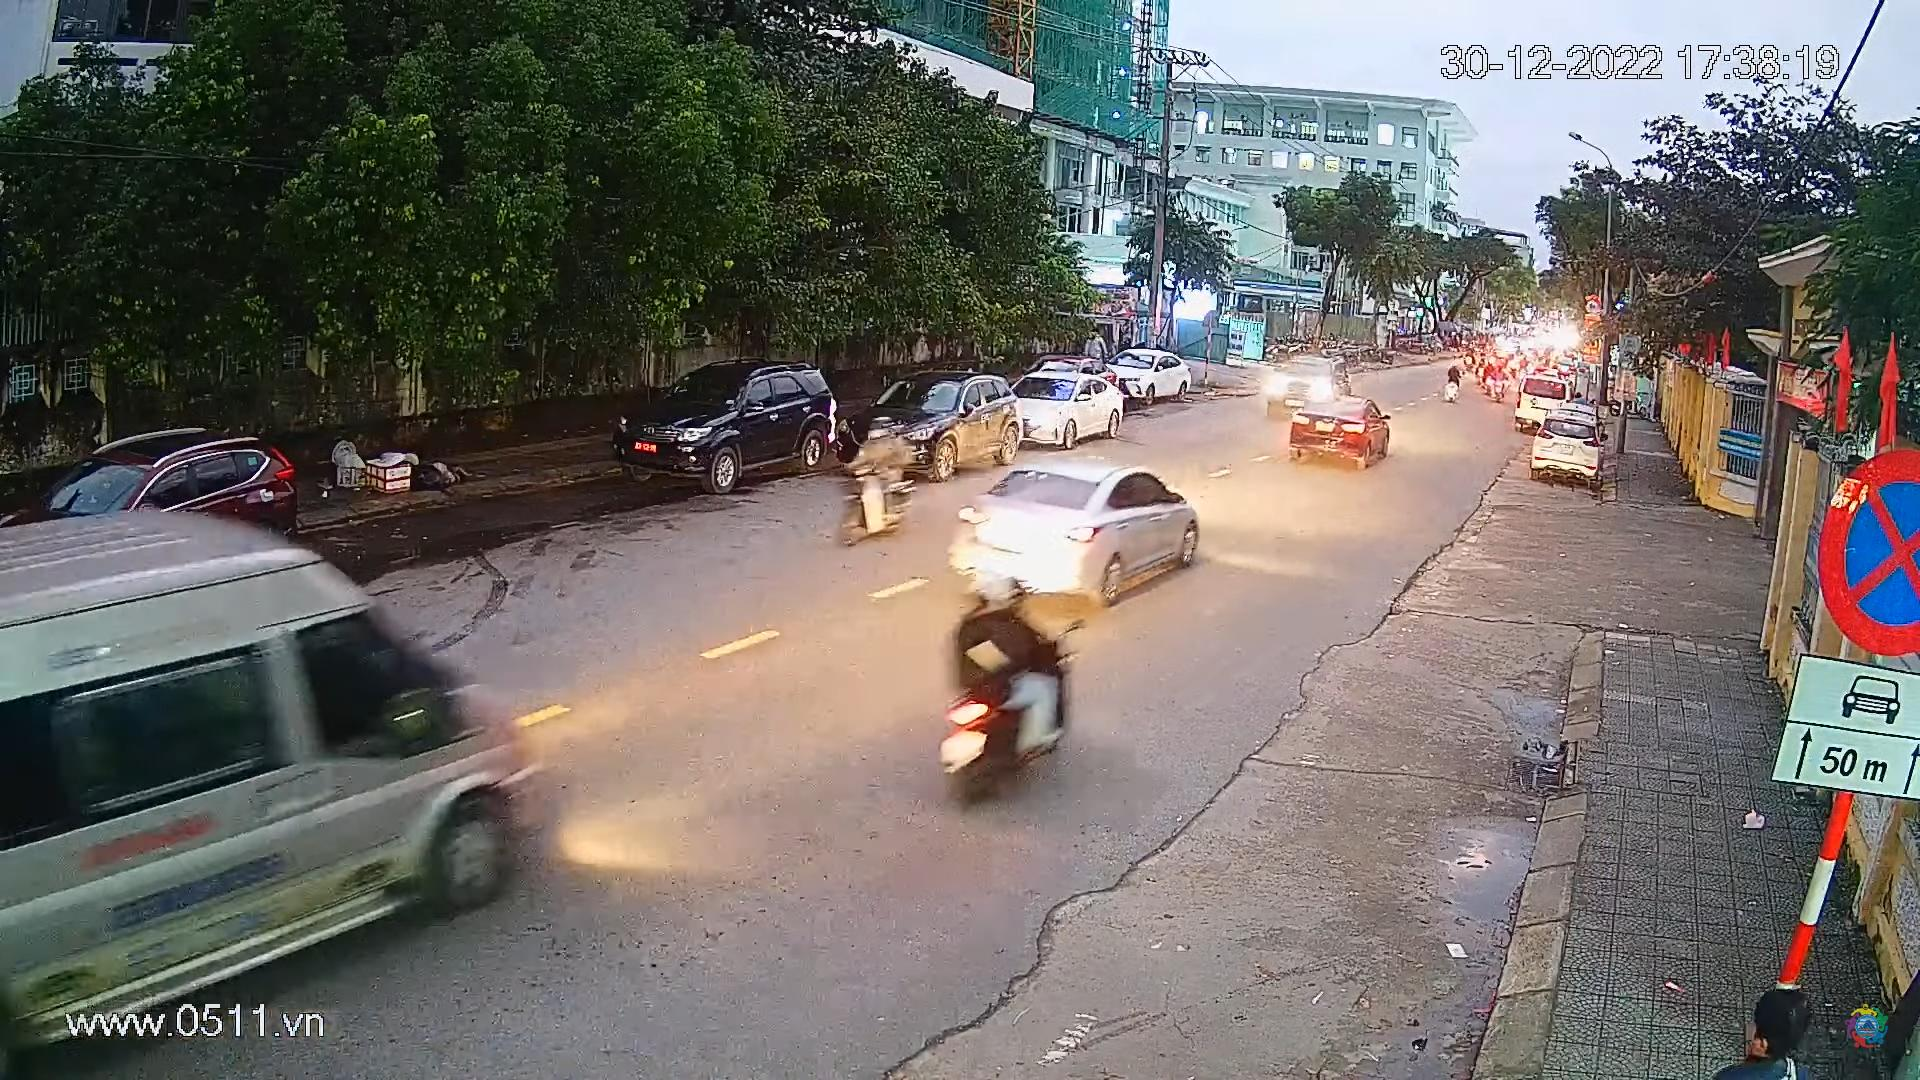bus: (0, 509, 558, 1060)
car: (951, 450, 1205, 604), (0, 429, 303, 556), (607, 360, 847, 495), (833, 368, 1023, 480), (1001, 364, 1129, 444), (1283, 393, 1394, 471), (1265, 351, 1353, 426), (1105, 344, 1196, 405), (1528, 417, 1607, 485), (1515, 372, 1572, 435)
motorcycle: (928, 566, 1088, 806), (831, 409, 944, 558), (1441, 359, 1464, 407)
